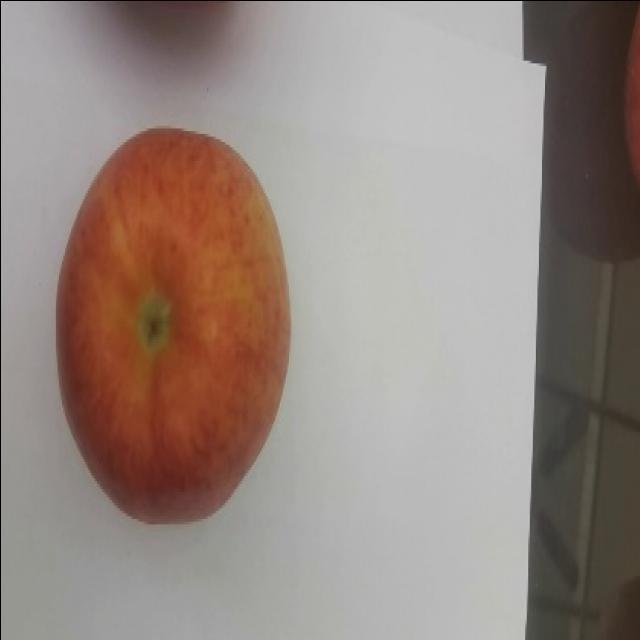Apple: (54, 125, 291, 525)
